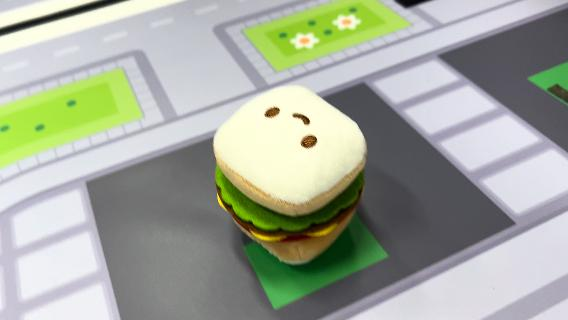sandwich: (210, 82, 370, 266)
